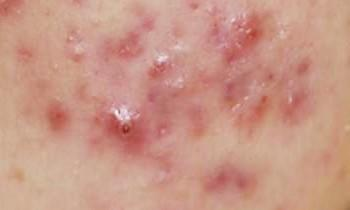blackhead: (65, 23, 89, 68)
papular: (99, 104, 155, 156), (138, 49, 182, 83)
sebo-crystan-conglo: (220, 12, 276, 62)
